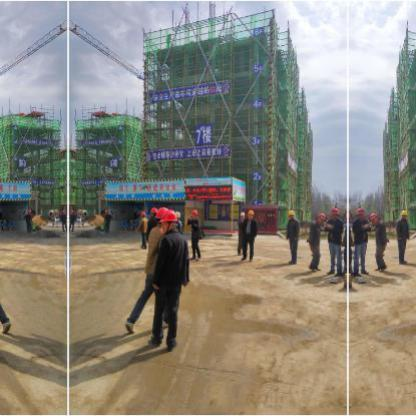Helmet: (159, 209, 175, 231), (154, 206, 166, 226), (354, 204, 366, 218), (330, 204, 340, 218), (315, 211, 325, 223), (285, 207, 295, 219), (188, 207, 198, 219), (368, 211, 378, 223), (398, 207, 408, 219), (244, 209, 254, 219), (148, 205, 156, 217), (138, 209, 146, 219), (238, 210, 245, 220)
